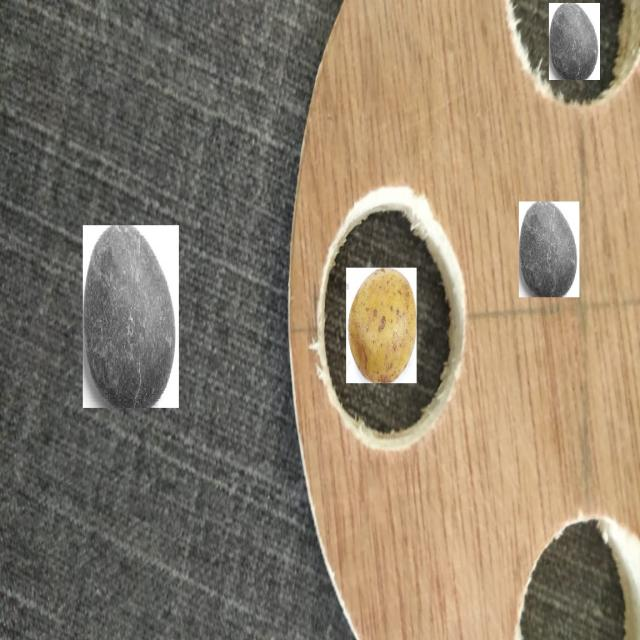potato: (350, 270, 416, 383)
